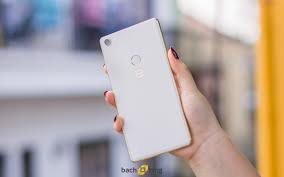bphone: (91, 15, 195, 162)
